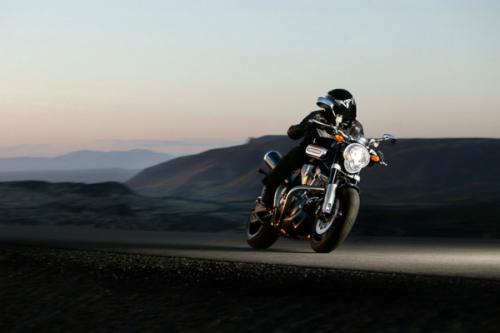motor: (257, 84, 385, 254)
